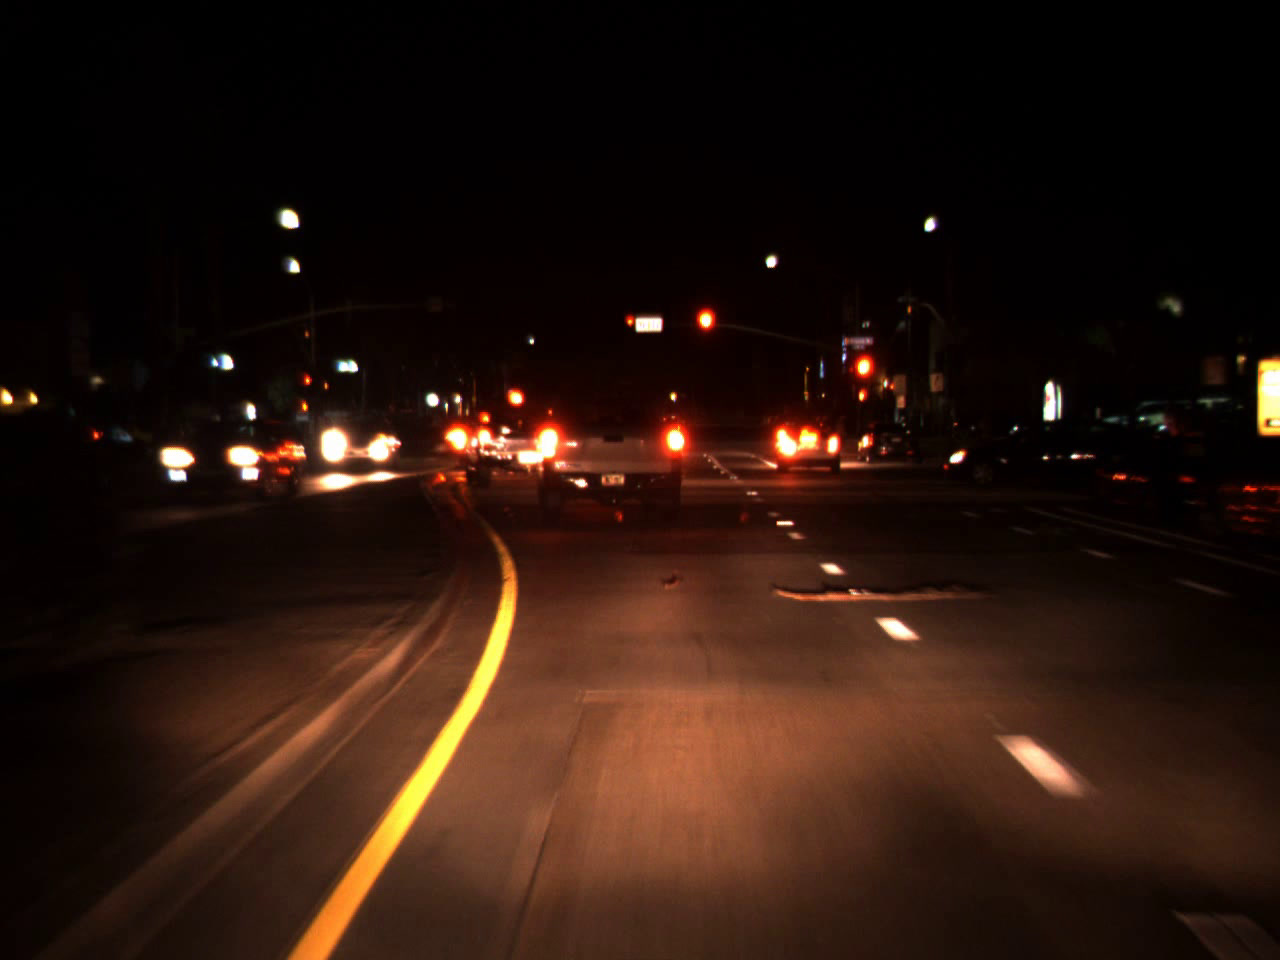stop: (850, 349, 878, 411), (692, 305, 719, 359), (625, 314, 635, 338), (303, 374, 310, 395)
